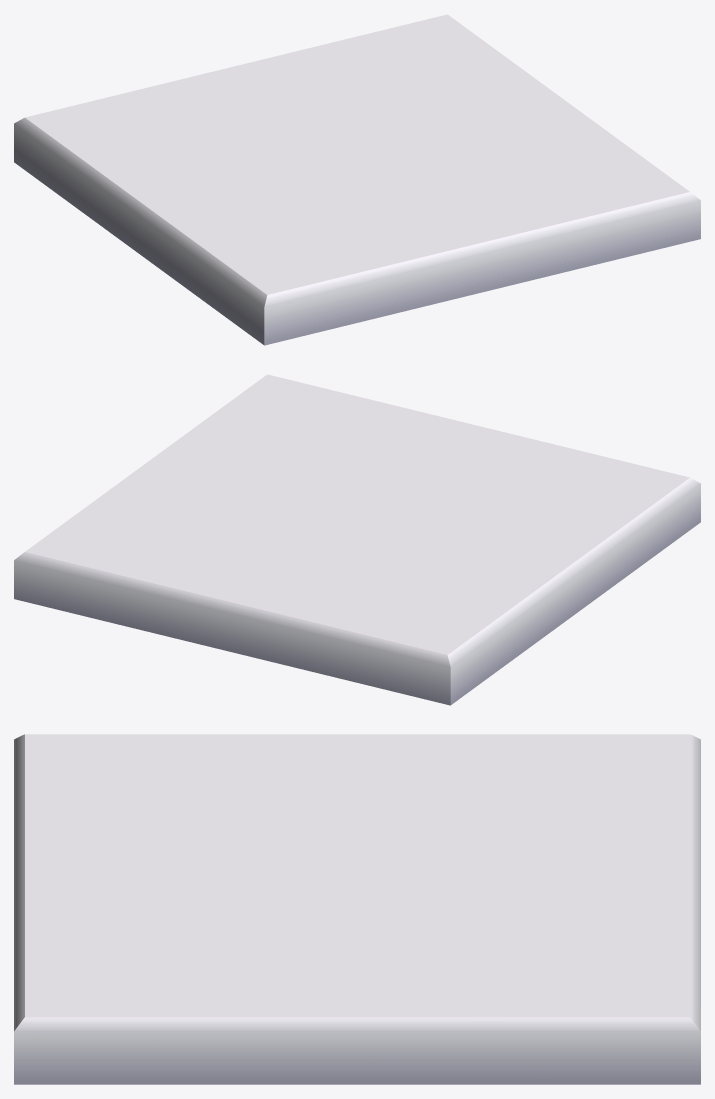
File: none-hq-plate-4x4.glb
The picture shows the model from 3 angles, top to bottom: view 1: azimuth 30°, elevation 25°; view 2: azimuth 150°, elevation 25°; view 3: azimuth 270°, elevation 25°; orthographic projection. The views are drawn at different scales.
Visible parts, largest first — view 1: none-hq-plate-4x4; view 2: none-hq-plate-4x4; view 3: none-hq-plate-4x4.
Boxes of the visible parts, x1,y1,x2,y2 form: none-hq-plate-4x4: (14,14,700,345); none-hq-plate-4x4: (14,374,700,705); none-hq-plate-4x4: (14,734,700,1084).
Bounding box in the file's own units: 0.318 × 0.032 × 0.316.
1 material, 1 textured.
